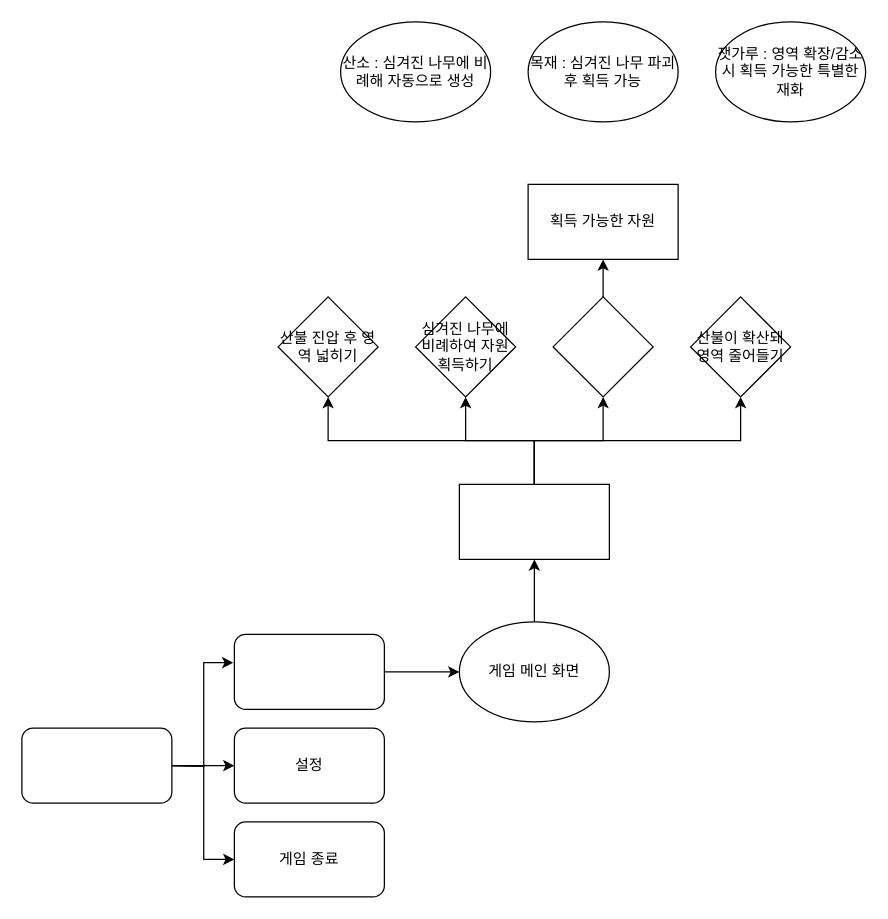
The diagram is 888 pixels wide and 919 high, and some of its shapes have lost their labels. Each missing label, with the box of its shape:
게임 시작: (233, 633, 384, 709)
게임 요소: (458, 483, 609, 559)
주어진 영역에 나무 심기: (552, 296, 653, 397)
프로그램 실행: (21, 727, 172, 803)
